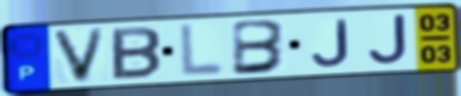B: (230, 18, 289, 78), (109, 25, 164, 82)
J: (366, 12, 409, 67), (310, 17, 353, 69)
L: (178, 22, 227, 79)
V: (48, 26, 109, 85)
